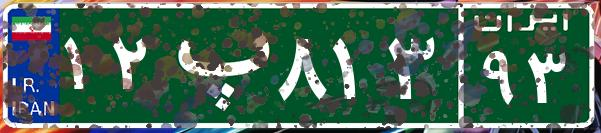1: (330, 28, 385, 110), (57, 26, 110, 107)
2: (110, 28, 158, 105)
3: (385, 28, 445, 110), (525, 38, 570, 115)
8: (273, 28, 330, 110)
9: (475, 38, 525, 113)
پ: (158, 15, 273, 115)
